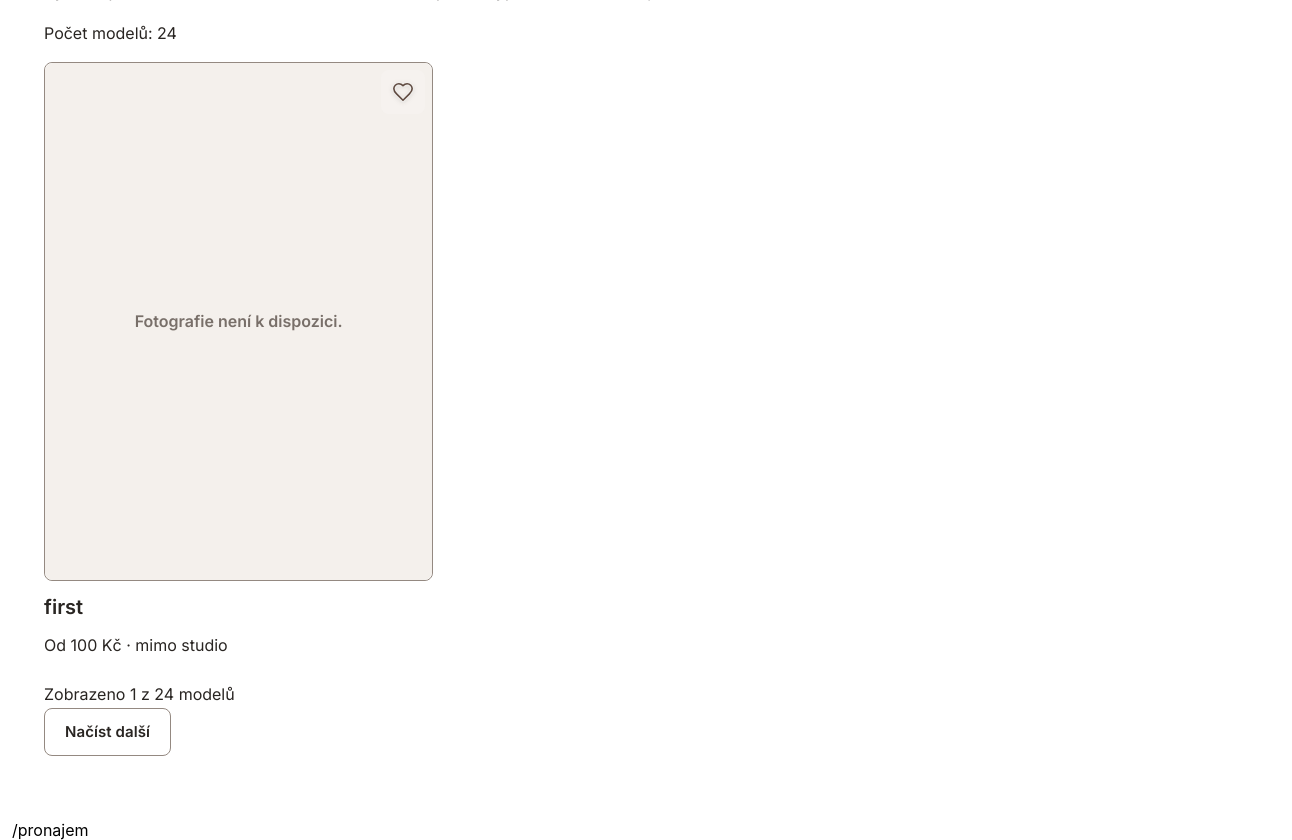
load-more remains usable without IntersectionObserver
(page scrolled)
expect the heading "first" is shown: met, box [44,595,83,619]
Click the button "Načíst další" at [108, 732], box [44,708,171,756]
(page scrolled)
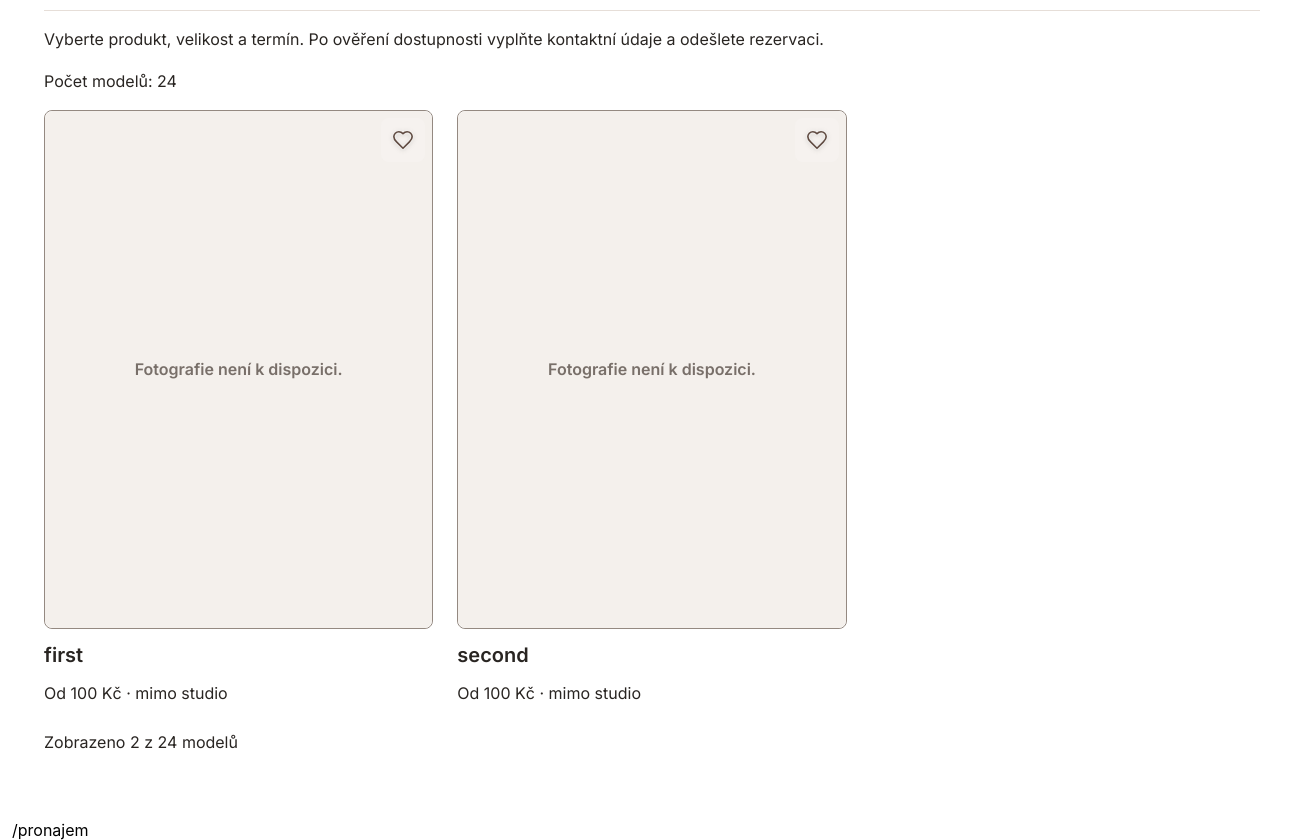
expect the heading "second" is shown: met, box [457,643,529,667]
